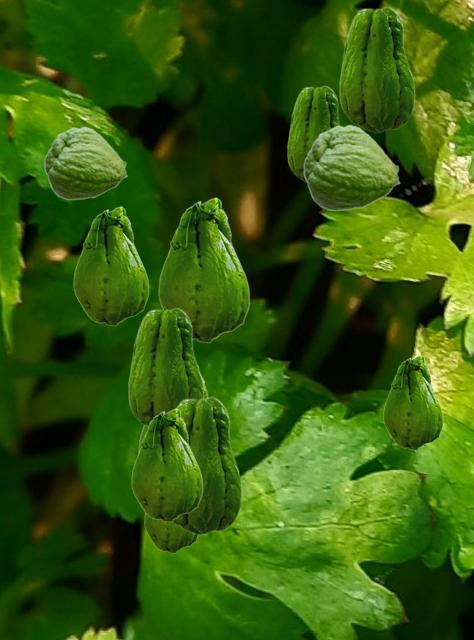sayote: (158, 197, 249, 342), (172, 396, 241, 534), (339, 6, 414, 132), (73, 206, 148, 325), (128, 307, 203, 426), (303, 124, 400, 210), (131, 408, 202, 521), (44, 126, 127, 199), (138, 366, 208, 450), (383, 355, 442, 449), (287, 85, 340, 183), (144, 513, 199, 552)
